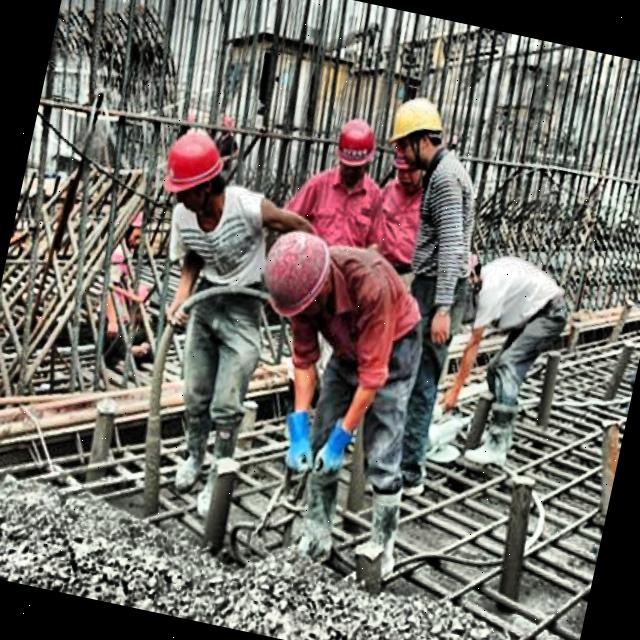helmet: (146, 111, 244, 227), (246, 220, 344, 332), (378, 87, 458, 189), (328, 110, 382, 184)
